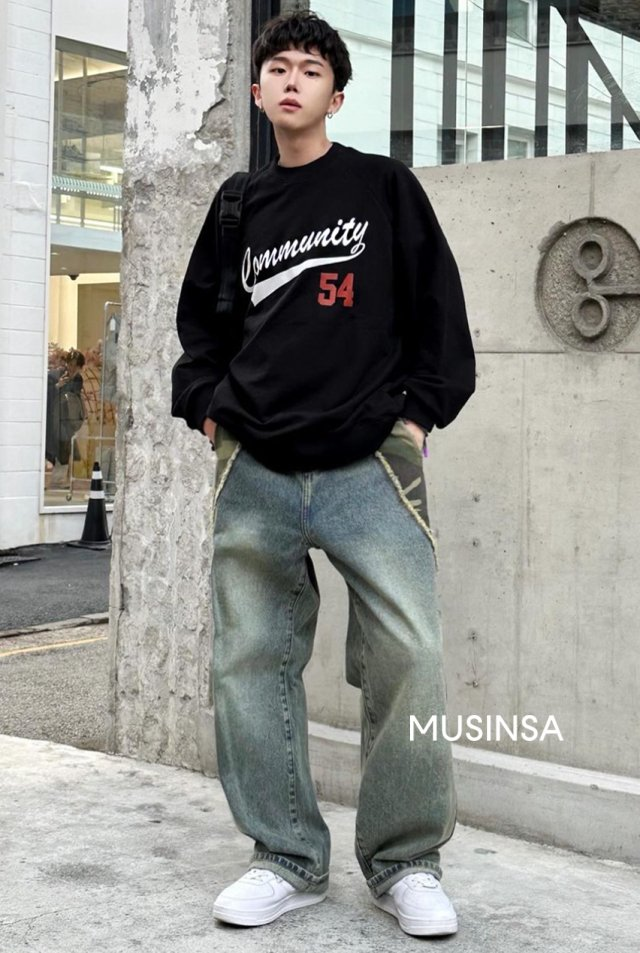Jeans: (202, 437, 469, 881)
Shoes: (210, 859, 468, 942)
Sweatshirt: (158, 143, 480, 463)
